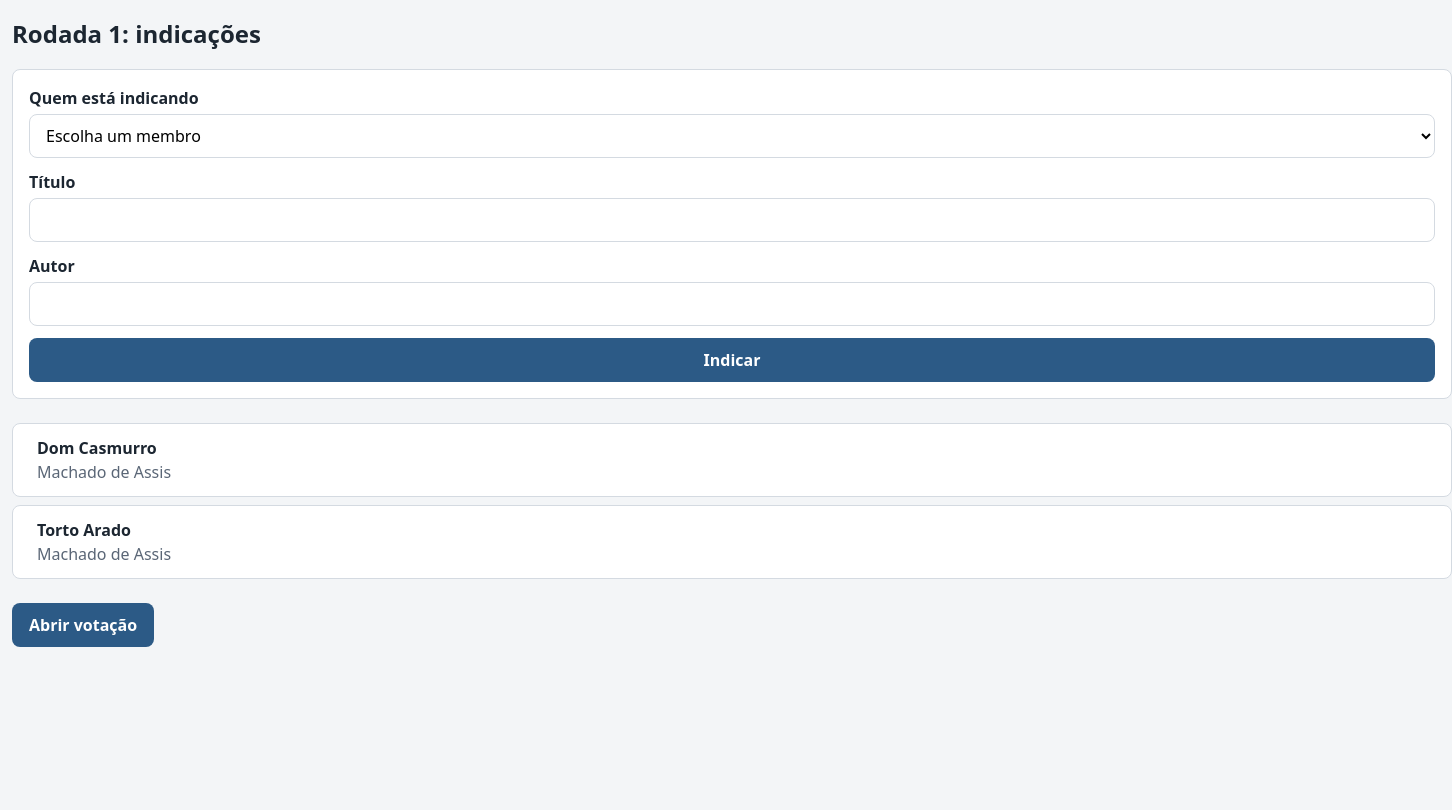
NominationStep › abre a votação com pelo menos dois livros (R7)
The image size is (1452, 810).
Click the button "Abrir votação" at (83, 625), box x1=12 y1=603 x2=154 y2=647
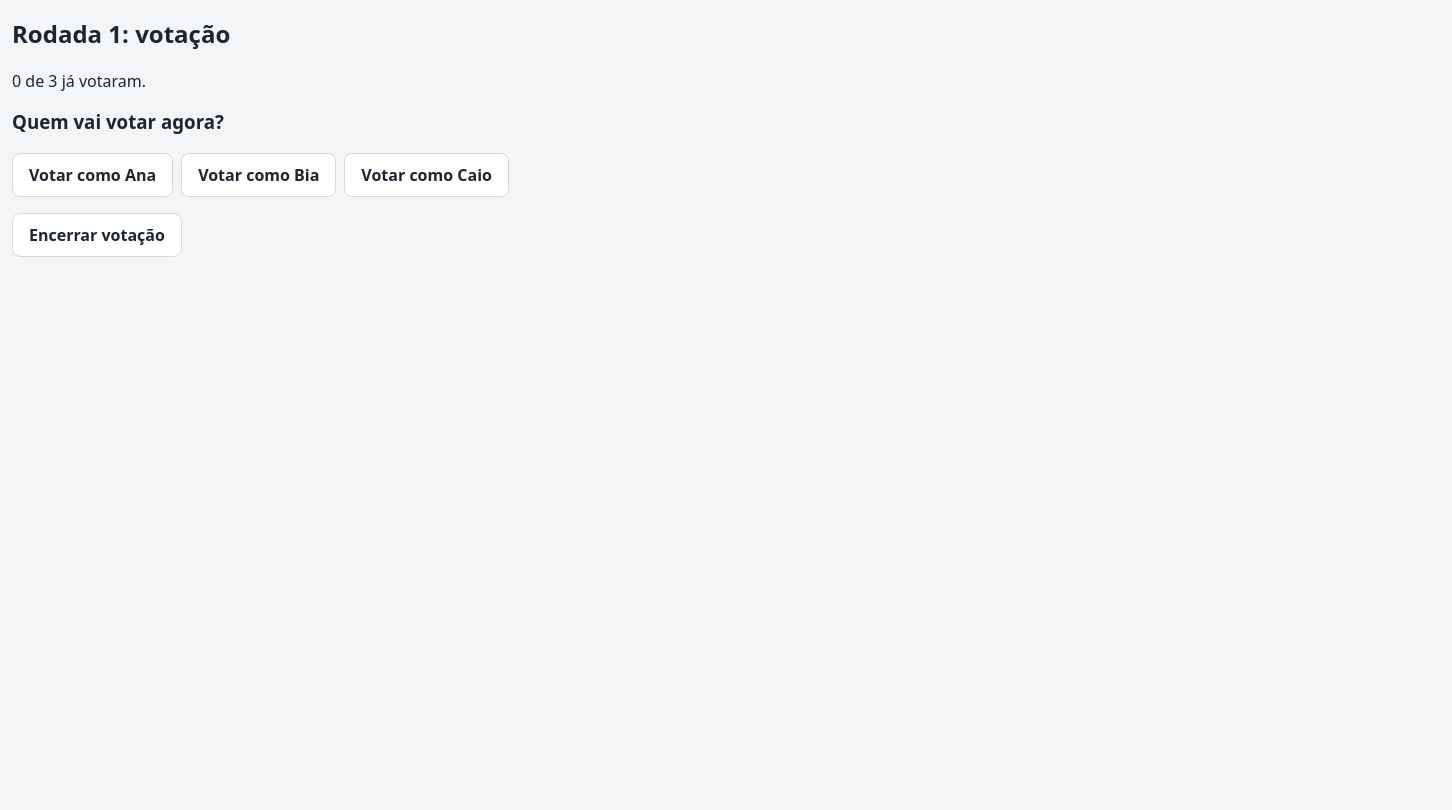
Expected: the heading "Rodada 1: votação" is shown, x1=12 y1=17 x2=230 y2=50
